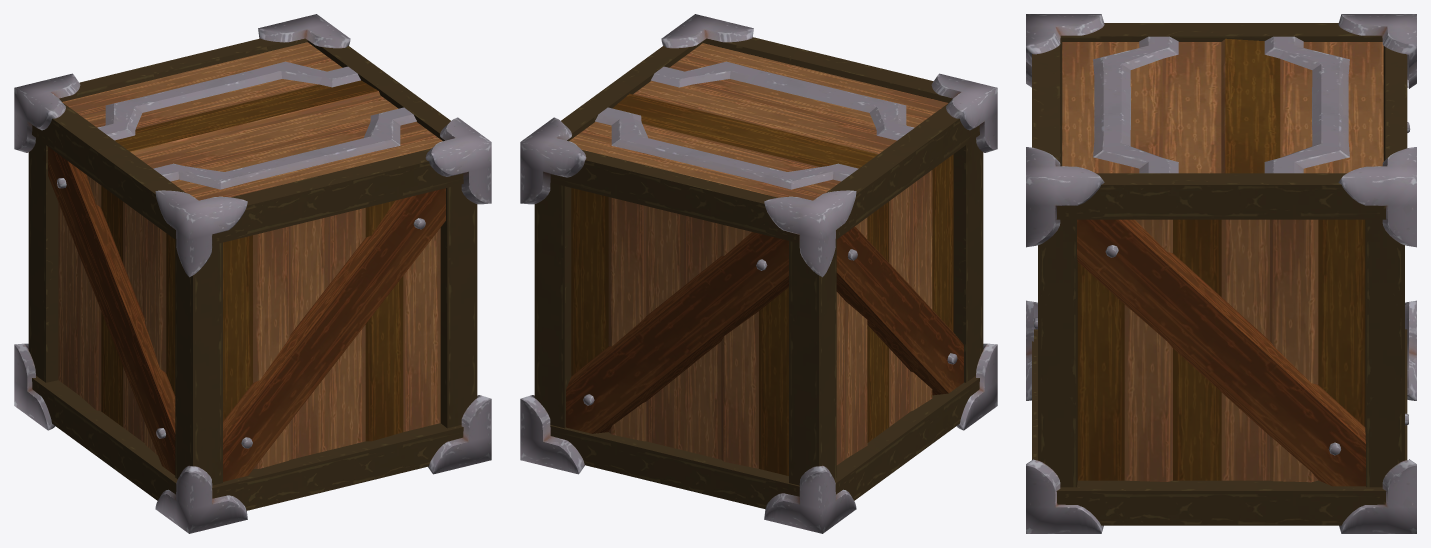
The model's file is Crate_Metal.gltf.
The picture shows the model from 3 angles, left to right: view 1: azimuth 30°, elevation 25°; view 2: azimuth 150°, elevation 25°; view 3: azimuth 270°, elevation 25°; orthographic projection. The views are drawn at different scales.
Parts seen in each view (by area): view 1: Crate_Metal; view 2: Crate_Metal; view 3: Crate_Metal.
Boxes of the visible parts, <box> form: Crate_Metal: <box>14,14,491,533</box>; Crate_Metal: <box>520,14,997,533</box>; Crate_Metal: <box>1026,14,1416,533</box>.
Bounding box in the file's own units: 0.8639 × 0.8679 × 0.8659.
2 materials, 2 textured.
